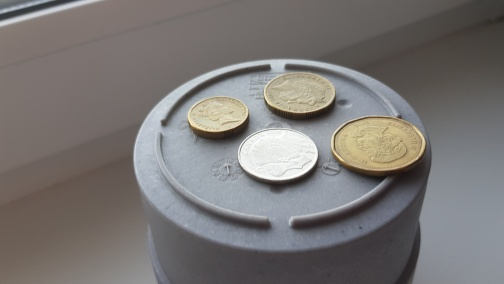coin: (330, 114, 427, 176), (236, 127, 320, 185), (263, 71, 337, 119), (186, 95, 250, 138)
